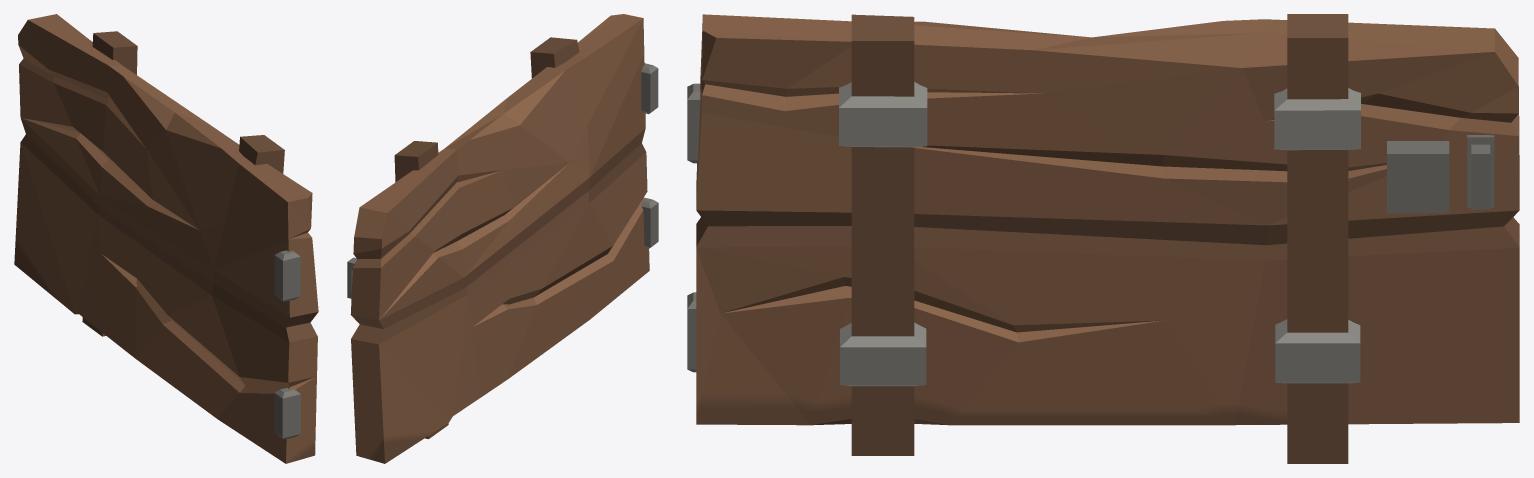
File: SM_Veh_Cart_02_Door_01.fbx
The picture shows the model from 3 angles, left to right: view 1: azimuth 30°, elevation 25°; view 2: azimuth 150°, elevation 25°; view 3: azimuth 270°, elevation 25°; orthographic projection. The views are drawn at different scales.
Parts seen in each view (by area): view 1: SM_Veh_Cart_02_Door_01; view 2: SM_Veh_Cart_02_Door_01; view 3: SM_Veh_Cart_02_Door_01.
Part boxes in pixels (x1,y1,x2,y2): SM_Veh_Cart_02_Door_01: (14,14,318,463); SM_Veh_Cart_02_Door_01: (347,14,658,463); SM_Veh_Cart_02_Door_01: (687,14,1519,463).
Size of the model in its own units: 14.49 by 111 by 64.31.
1 material, 1 textured.
